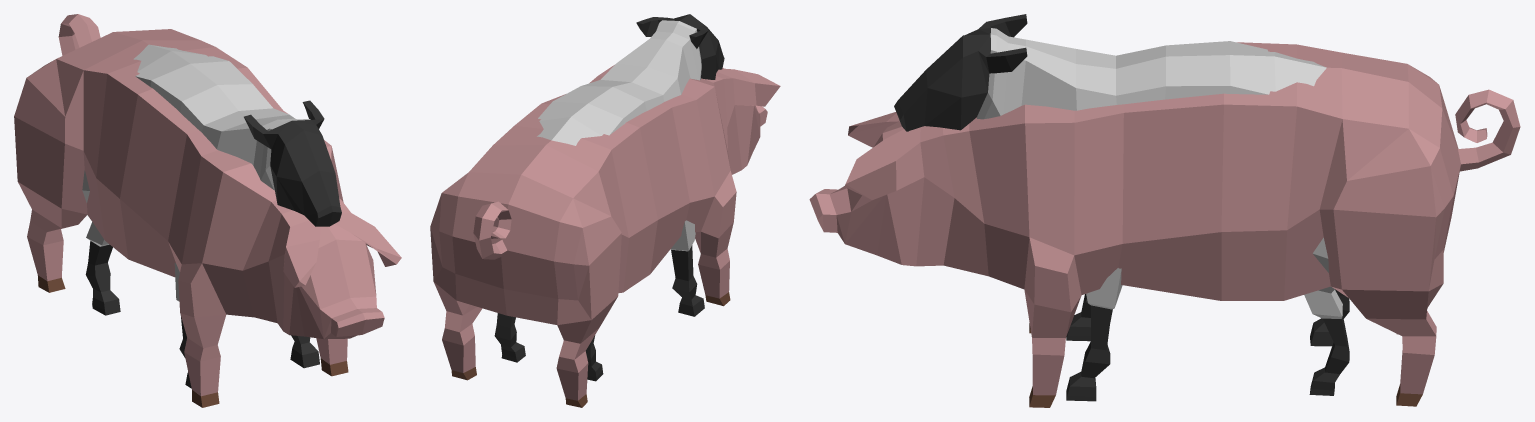
Rendered from farm_animals.glb.
The picture shows the model from 3 angles, left to right: view 1: azimuth 30°, elevation 25°; view 2: azimuth 150°, elevation 25°; view 3: azimuth 270°, elevation 25°; orthographic projection. The views are drawn at different scales.
Parts seen in each view (by area): view 1: Pig, Sheep; view 2: Pig, Sheep; view 3: Pig, Sheep.
Part boxes in pixels (x1,y1,x2,y2): Pig: (14, 14, 401, 407); Sheep: (82, 44, 341, 388); Pig: (430, 65, 780, 407); Sheep: (494, 14, 724, 381); Pig: (809, 42, 1520, 407); Sheep: (894, 14, 1349, 401).
Size of the model in its own units: 0.686 by 1.05 by 2.03.
